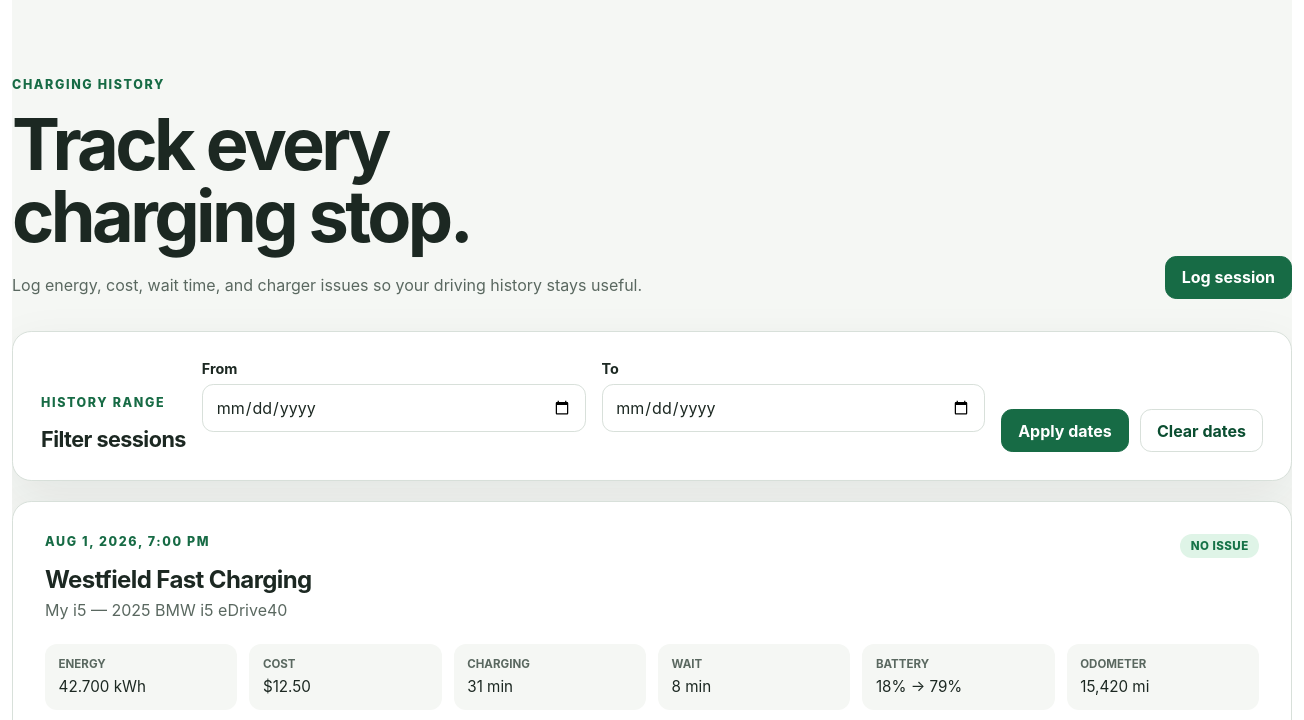
Test: charging-session history UI › validates date order without requesting an invalid range
Check: the heading "Westfield Fast Charging" is shown, box [45,565,312,594]
Type "2026-08-10" into the date field labelled "From" at [394, 408], box [202,384,586,432]
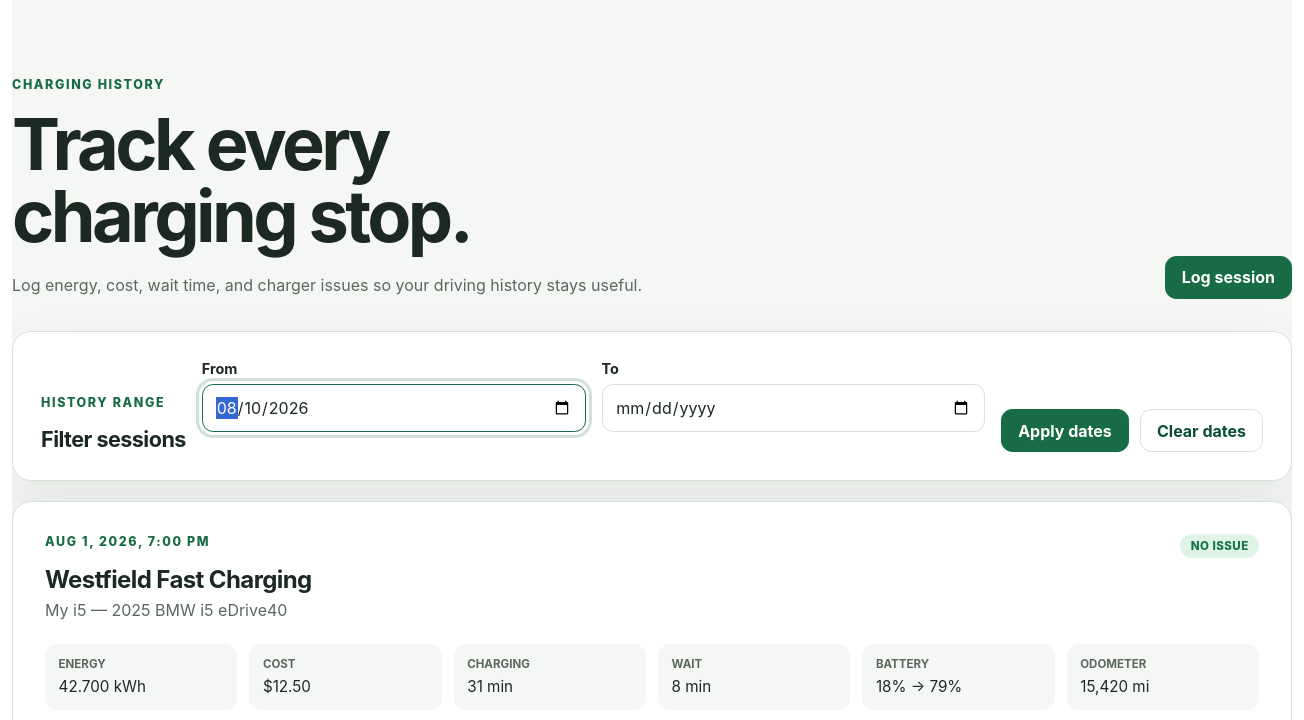
Type "2026-08-01" into the date field labelled "To" at [793, 408], box [602,384,985,432]
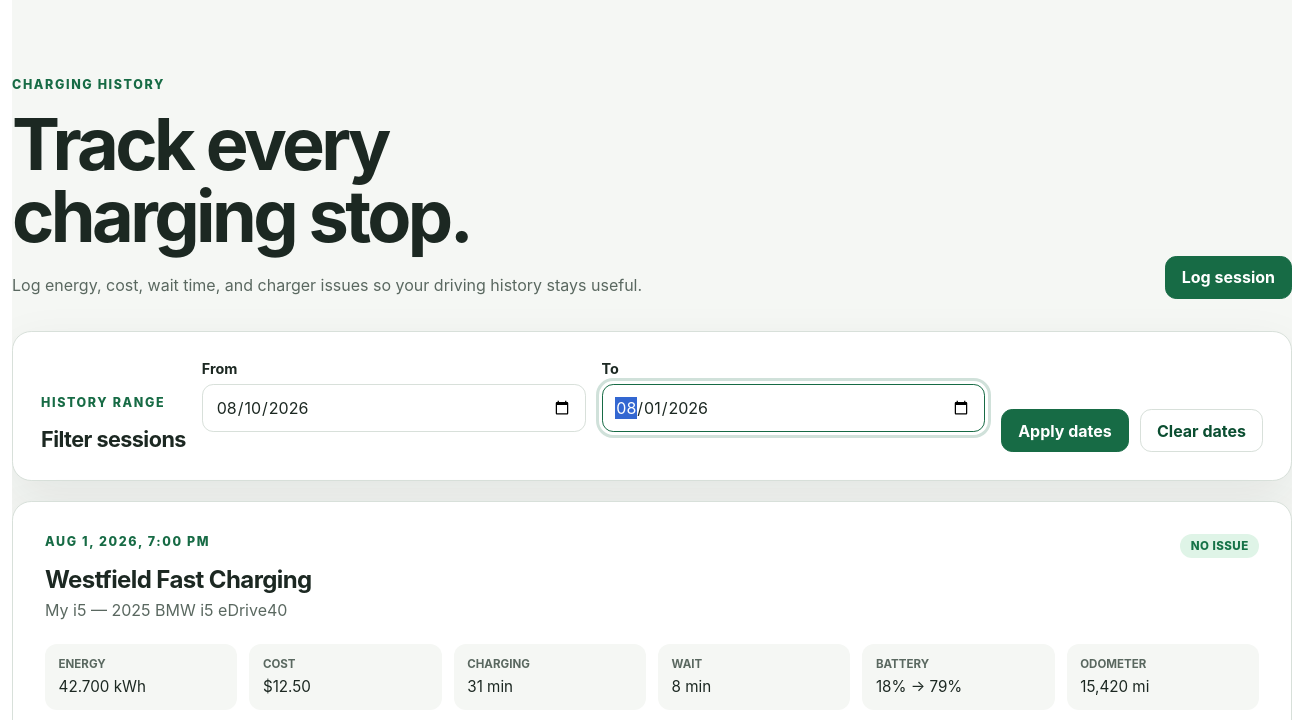
Click the button "Apply dates" at [1065, 431], box [1001,409,1129,452]
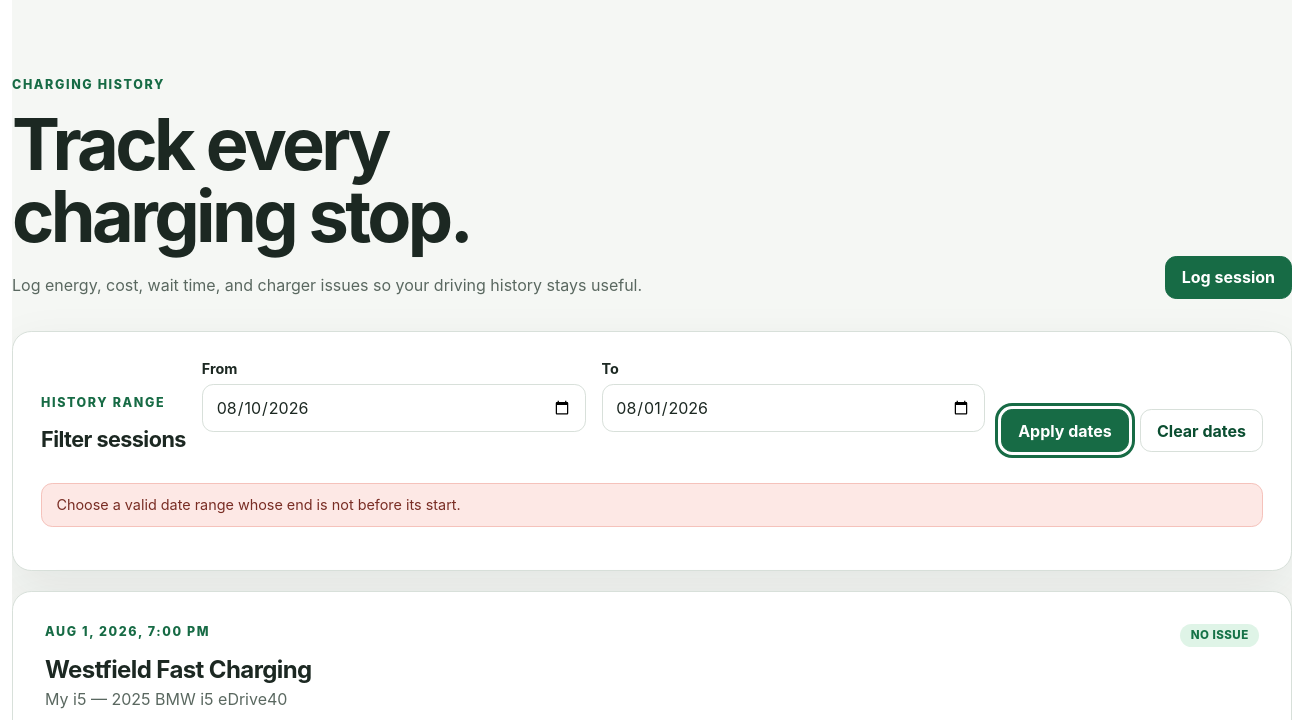
Check: the message reads "Choose a valid date range whose end is not before its start.", box [56,496,461,513]
